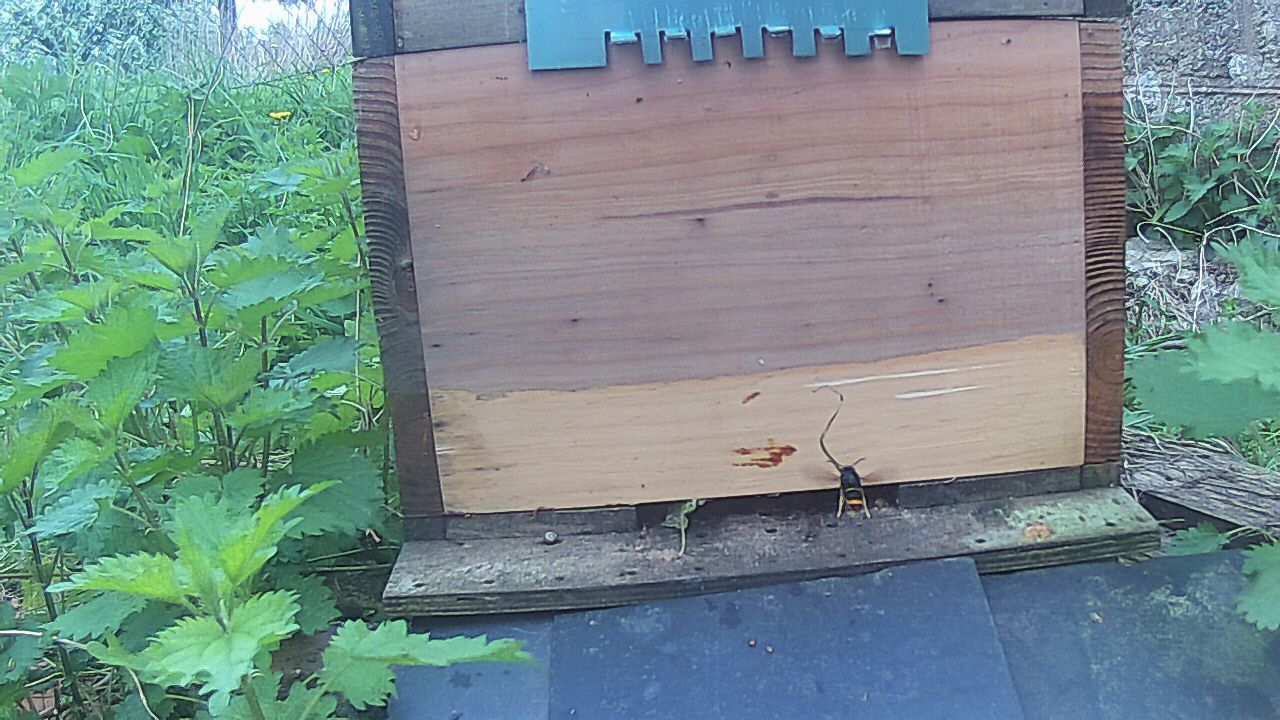hornet: (812, 457, 868, 507)
